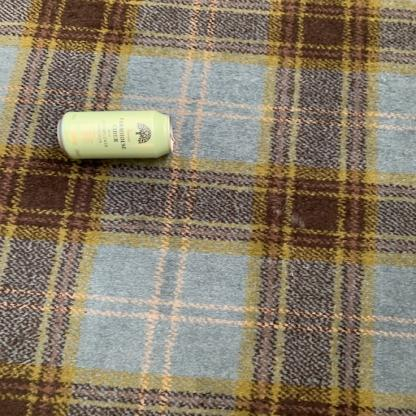trash: (56, 108, 180, 164)
